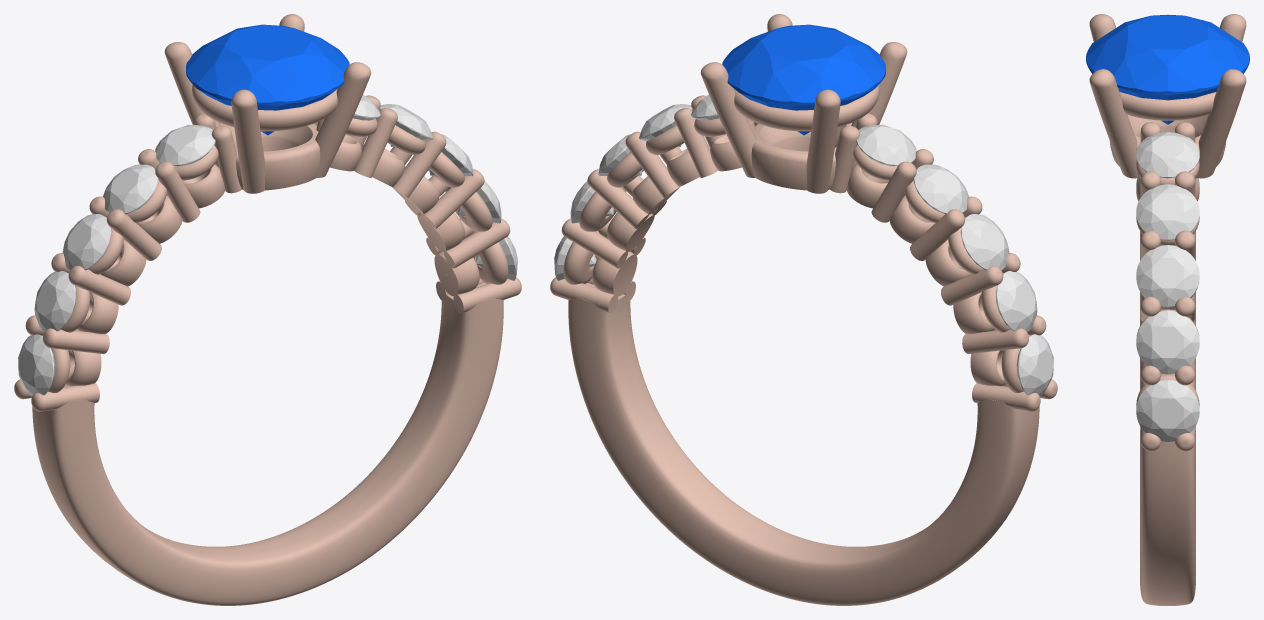
Rendered from bluesapphire-round-rosegold-4prong-straightband-11stone.glb.
The picture shows the model from 3 angles, left to right: view 1: azimuth 30°, elevation 25°; view 2: azimuth 150°, elevation 25°; view 3: azimuth 270°, elevation 25°; orthographic projection.
Visible parts, largest first — view 1: metal, stone, side.004, side.006, side.002, side.008, side, side.007; view 2: metal, stone, side.004, side.006, side.002, side.008, side, side.007; view 3: metal, stone, side.003, side.001, side.005, side.007, side.009.
Boxes of the visible parts, left/top/right/bottom form: metal: left=14, top=14, right=521, bottom=605; stone: left=186, top=24, right=349, bottom=135; side.004: left=62, top=214, right=111, bottom=270; side.006: left=103, top=164, right=158, bottom=214; side.002: left=34, top=271, right=75, bottom=331; side.008: left=155, top=124, right=215, bottom=166; side: left=18, top=334, right=55, bottom=396; side.007: left=379, top=104, right=432, bottom=146; metal: left=550, top=14, right=1057, bottom=605; stone: left=722, top=24, right=885, bottom=135; side.004: left=960, top=214, right=1009, bottom=270; side.006: left=913, top=164, right=968, bottom=214; side.002: left=996, top=271, right=1037, bottom=331; side.008: left=856, top=124, right=916, bottom=166; side: left=1016, top=334, right=1053, bottom=396; side.007: left=639, top=104, right=692, bottom=146; metal: left=1089, top=14, right=1246, bottom=605; stone: left=1086, top=14, right=1249, bottom=124; side.003: left=1136, top=310, right=1199, bottom=374; side.001: left=1136, top=380, right=1199, bottom=441; side.005: left=1136, top=245, right=1199, bottom=306; side.007: left=1136, top=184, right=1199, bottom=240; side.009: left=1136, top=131, right=1199, bottom=178.
Size of the model in its own units: 22.03 by 23.82 by 6.44.
